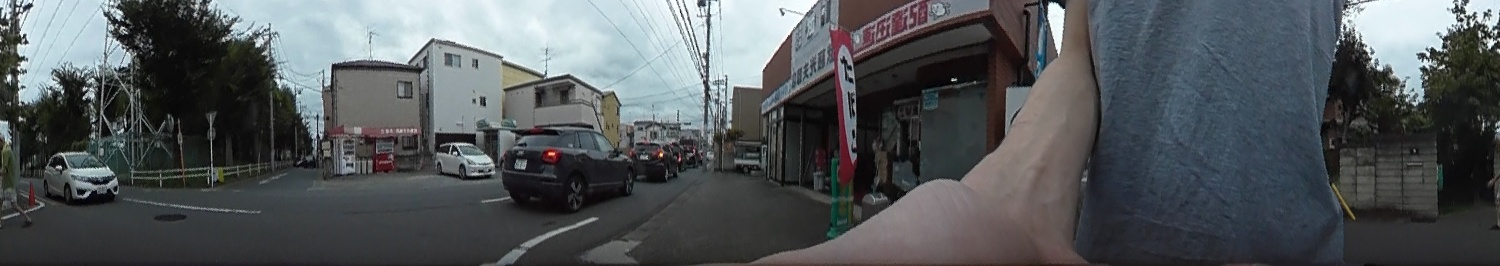person: (0, 128, 36, 235)
